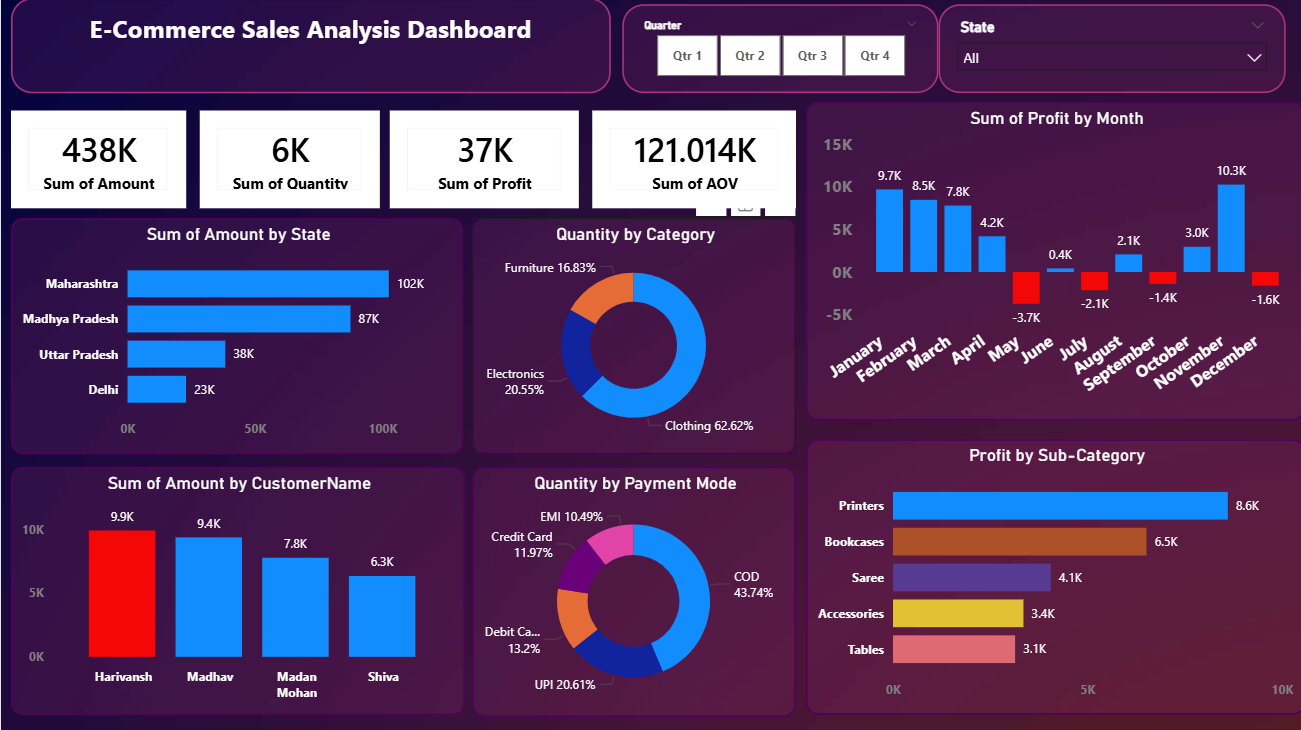

The page's visual inventory and layout, read from the dashboard file:
{"tool":"powerbi","page":{"name":"Page 1","canvas":[1280,720],"ordinal":0},"visuals":[{"type":"textbox","box":[9.8,0,589,93.3],"z":0},{"type":"columnChart","fields":{"Category":["Orders.Order Date.Variation.Date Hierarchy.Month"],"Y":["Sum(Details.Profit)"]},"box":[790.2,101.8,489.6,312.9],"z":1000},{"type":"barChart","title":"Profit by Sub-Category","fields":{"Category":["Details.Sub-Category"],"Y":["Sum(Details.Profit)"]},"box":[790.4,433.6,489.9,270.3],"z":2000},{"type":"donutChart","title":"Quantity by Category","fields":{"Category":["Details.Category"],"Y":["Sum(Details.Quantity)"]},"box":[462.6,216,317.8,231.9],"z":3000},{"type":"donutChart","title":"Quantity by Payment Mode","fields":{"Y":["Sum(Details.Quantity)"],"Category":["Details.PaymentMode"]},"box":[462.6,460.1,317.8,245.4],"z":4000},{"type":"barChart","fields":{"Category":["Orders.State"],"Y":["Sum(Details.Amount)"]},"box":[9.8,216,444.2,231.9],"z":5000},{"type":"columnChart","fields":{"Category":["Orders.CustomerName"],"Y":["Sum(Details.Amount)"]},"box":[9.8,460.1,445.4,244.2],"z":6000},{"type":"cardVisual","fields":{"Data":["Sum(Details.Quantity)"]},"box":[195.1,110.4,176.7,95.7],"z":8000},{"type":"cardVisual","fields":{"Data":["Sum(Details.Profit)"]},"box":[381.6,110.4,185.3,95.7],"z":9000},{"type":"cardVisual","fields":{"Data":["Sum(Details.AOV)"]},"box":[580.4,110.4,200,95.7],"z":10000},{"type":"slicer","fields":{"Values":["Orders.Order Date.Variation.Date Hierarchy.Quarter"]},"box":[609.8,6.1,310.4,87.1],"z":11000},{"type":"slicer","fields":{"Values":["Orders.State"]},"box":[920.3,6.1,341.1,87.1],"z":12000},{"type":"cardVisual","fields":{"Data":["Sum(Details.Amount)"]},"box":[9.8,110.4,171.8,95.7],"z":12001}]}

Visuals, with their boxes in screenshot pixels (x1, y1, x2, y2), scaled from the page's 1280x720 canvas onto the 1301x730 screenshot:
textbox: {"x1": 10, "y1": 0, "x2": 609, "y2": 95}
columnChart - Orders.Order Date.Variation.Date Hierarchy.Month x Sum(Details.Profit): {"x1": 803, "y1": 103, "x2": 1300, "y2": 420}
"Profit by Sub-Category" barChart: {"x1": 803, "y1": 440, "x2": 1300, "y2": 714}
"Quantity by Category" donutChart: {"x1": 470, "y1": 219, "x2": 793, "y2": 454}
"Quantity by Payment Mode" donutChart: {"x1": 470, "y1": 466, "x2": 793, "y2": 715}
barChart - Orders.State x Sum(Details.Amount): {"x1": 10, "y1": 219, "x2": 461, "y2": 454}
columnChart - Orders.CustomerName x Sum(Details.Amount): {"x1": 10, "y1": 466, "x2": 463, "y2": 714}
cardVisual - Sum(Details.Quantity): {"x1": 198, "y1": 112, "x2": 378, "y2": 209}
cardVisual - Sum(Details.Profit): {"x1": 388, "y1": 112, "x2": 576, "y2": 209}
cardVisual - Sum(Details.AOV): {"x1": 590, "y1": 112, "x2": 793, "y2": 209}
slicer - Orders.Order Date.Variation.Date Hierarchy.Quarter: {"x1": 620, "y1": 6, "x2": 935, "y2": 94}
slicer - Orders.State: {"x1": 935, "y1": 6, "x2": 1282, "y2": 94}
cardVisual - Sum(Details.Amount): {"x1": 10, "y1": 112, "x2": 185, "y2": 209}
